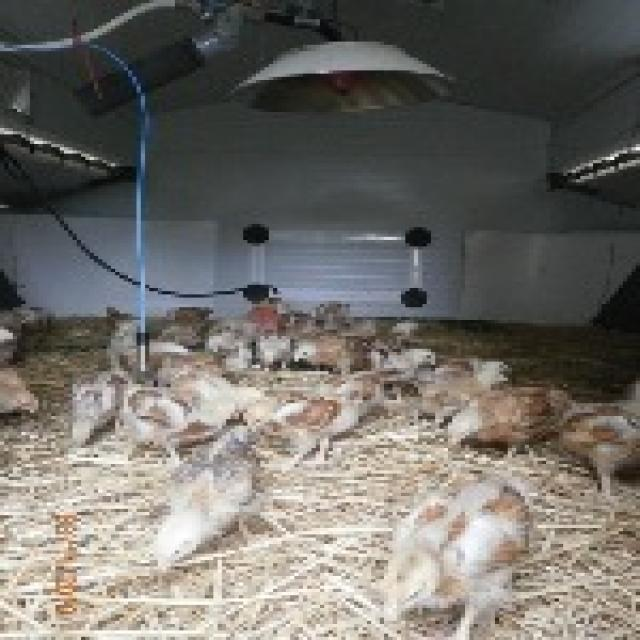poussin: (384, 475, 534, 640), (151, 430, 274, 566), (553, 386, 640, 504), (270, 380, 384, 463), (434, 390, 569, 450), (121, 384, 228, 444), (418, 361, 512, 422), (292, 326, 400, 374), (70, 370, 128, 450), (358, 349, 440, 396), (116, 334, 202, 376), (254, 318, 316, 374), (194, 388, 267, 427), (155, 314, 217, 344), (207, 318, 254, 356)
